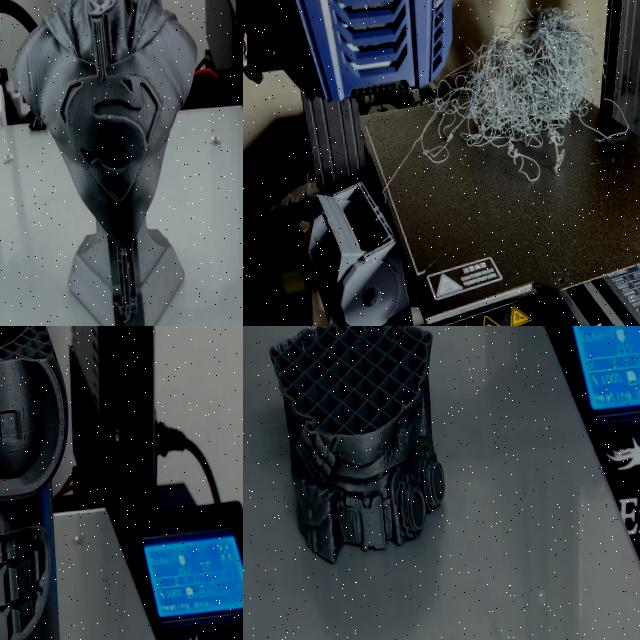spaghetti: (421, 0, 630, 193)
